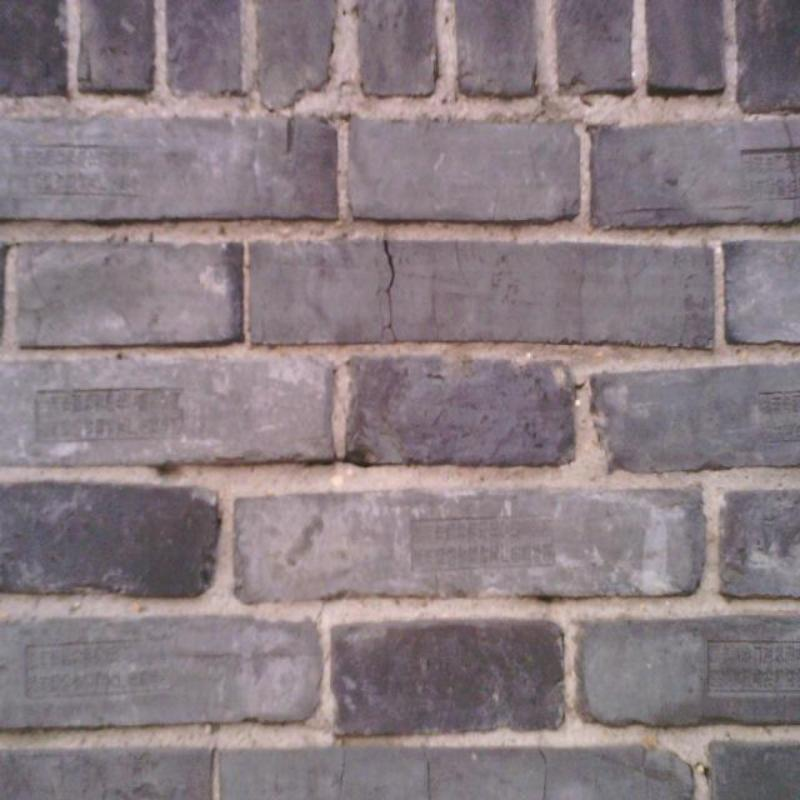pothole: (376, 239, 399, 342), (454, 241, 471, 288), (423, 747, 431, 799), (340, 750, 346, 794), (541, 772, 548, 799), (539, 750, 547, 765), (331, 458, 350, 462)
